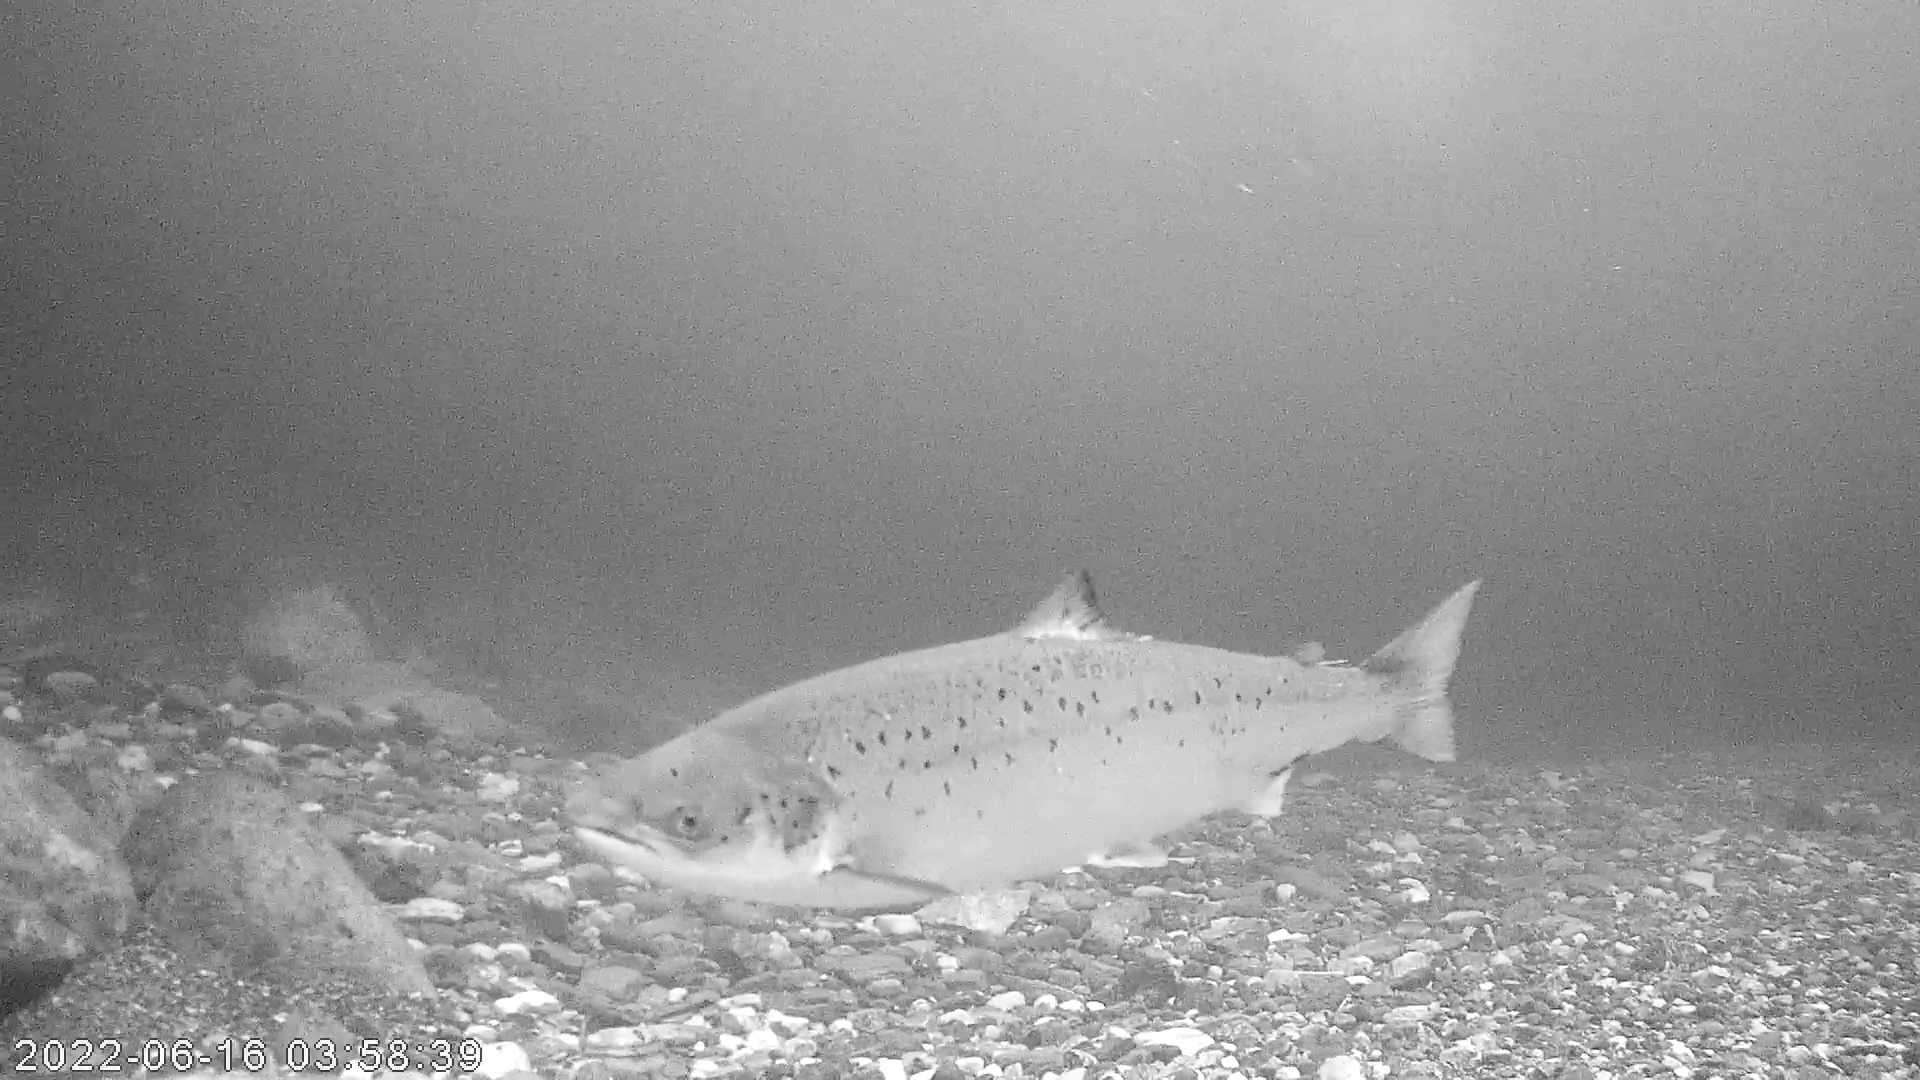salmon: (564, 564, 1484, 913)
